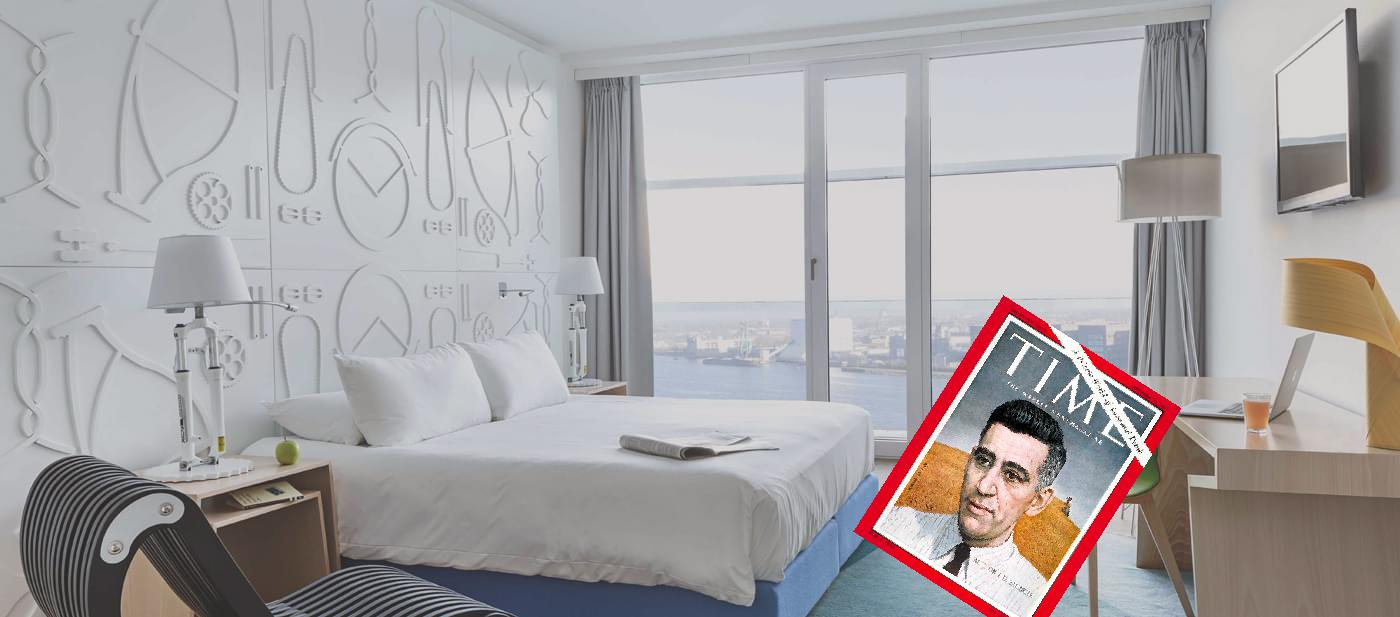times: (847, 293, 1184, 617)
